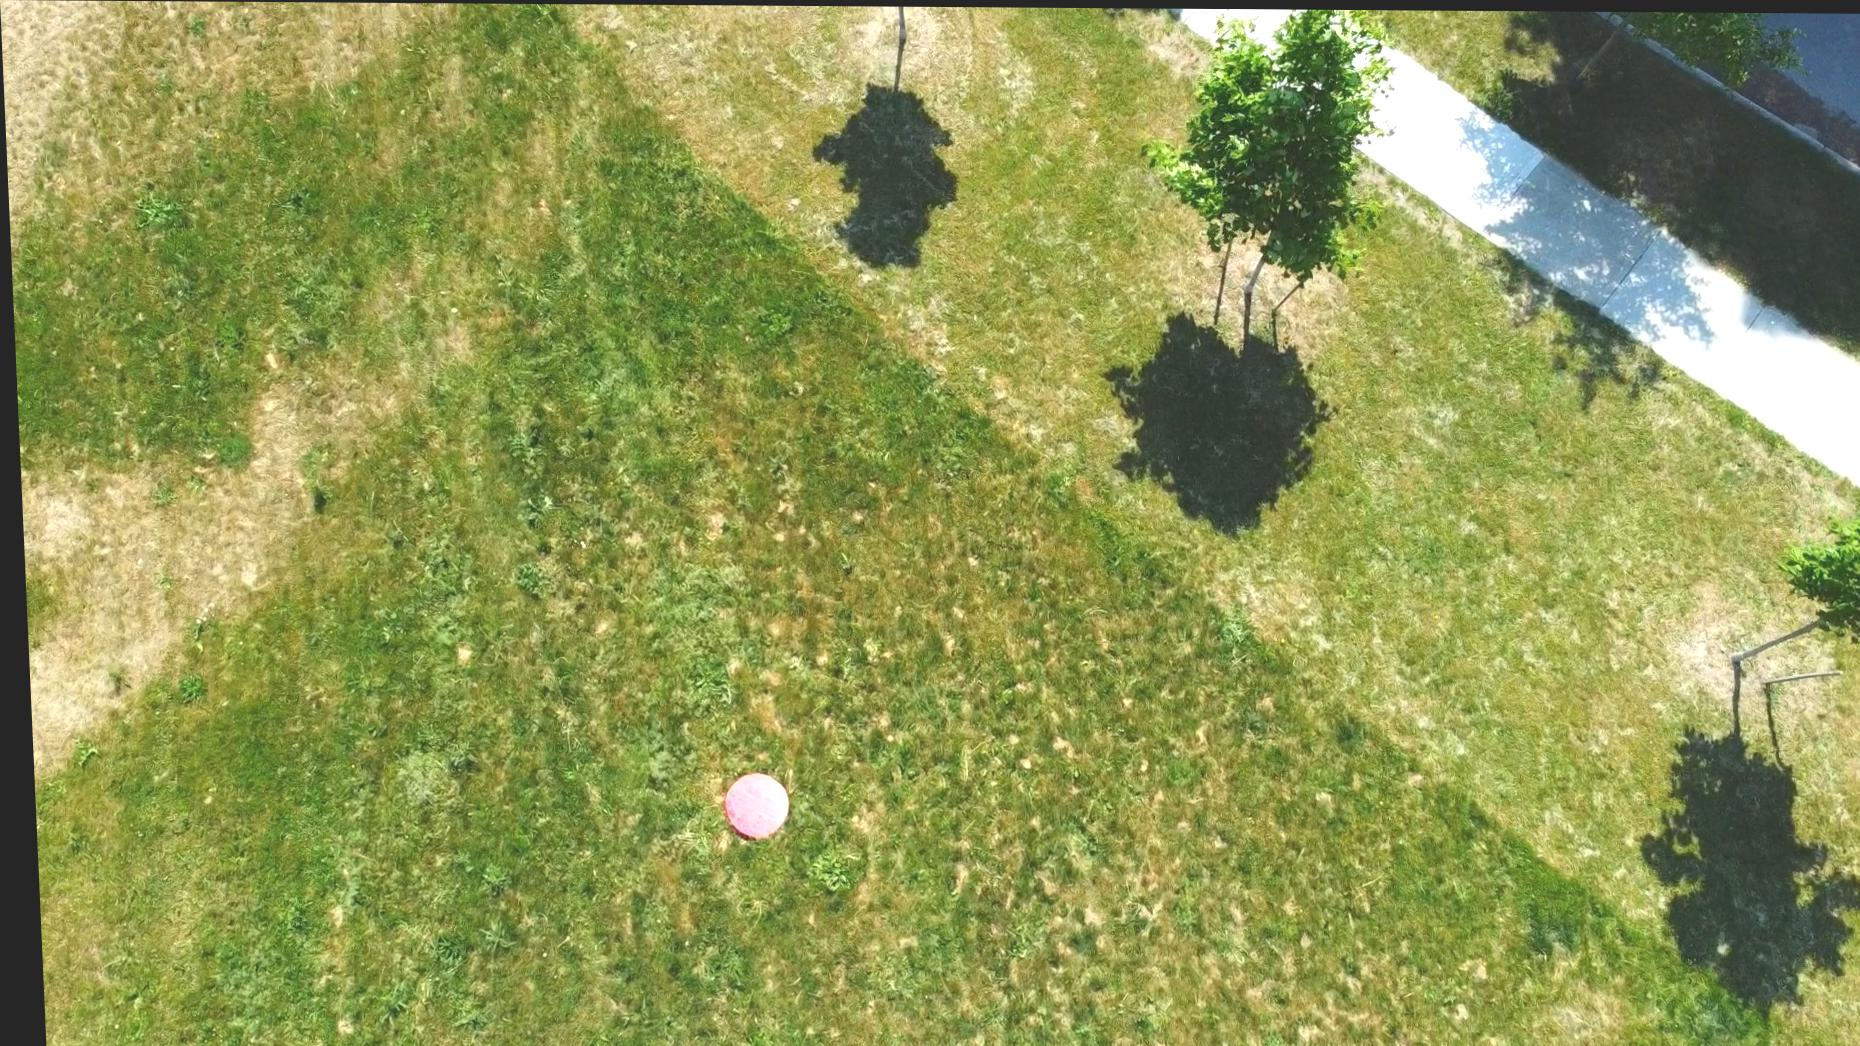Red: (713, 768, 787, 842)
